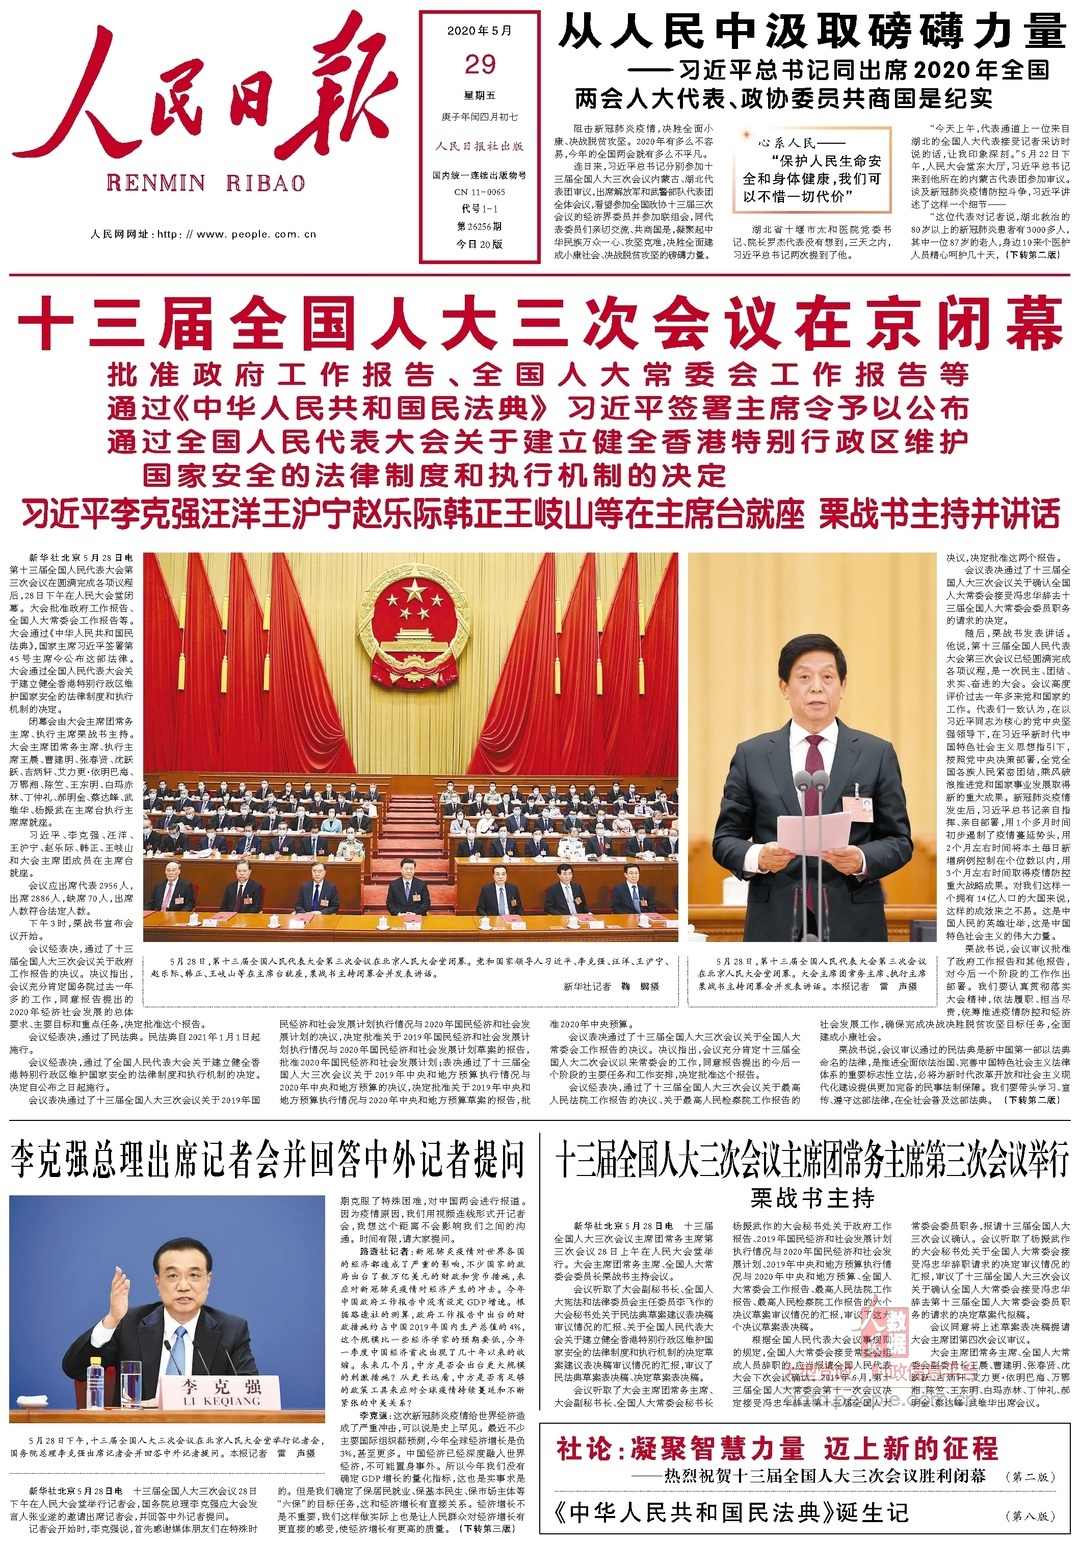pic: (137, 549, 682, 946), (684, 548, 940, 949), (5, 1191, 332, 1430)
